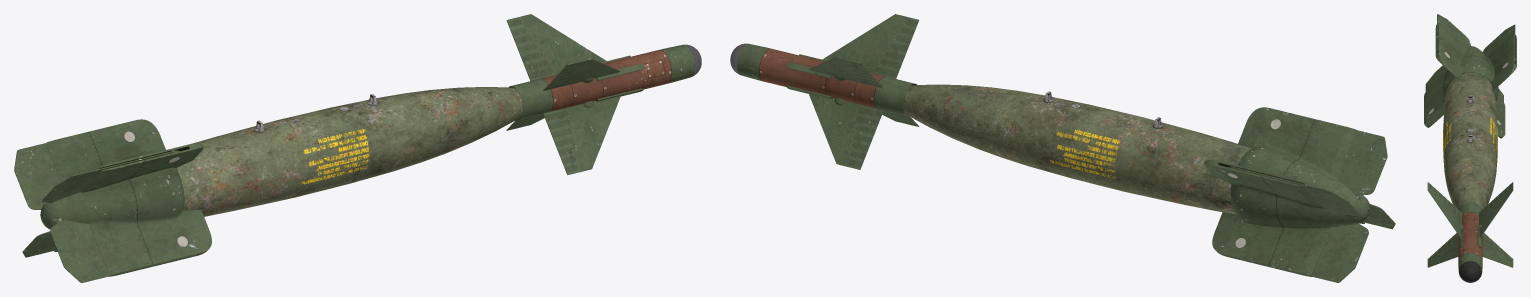
File: gbu-24_paveway_iii_lgb.glb
The picture shows the model from 3 angles, left to right: view 1: azimuth 30°, elevation 25°; view 2: azimuth 150°, elevation 25°; view 3: azimuth 270°, elevation 25°; orthographic projection. The views are drawn at different scales.
Parts seen in each view (by area): view 1: Object_4, Object_2; view 2: Object_4, Object_2; view 3: Object_4, Object_2, Object_3.
Part boxes in pixels (x1,y1,x2,y2): Object_4: (14,14,694,282); Object_2: (177,87,522,216); Object_4: (737,14,1395,282); Object_2: (903,84,1252,214); Object_4: (1424,14,1516,281); Object_2: (1443,72,1497,209); Object_3: (1458,261,1482,282).
Size of the model in its own units: 4.41 by 0.7692 by 0.7692.
Materials: 3 (2 with a texture image).
